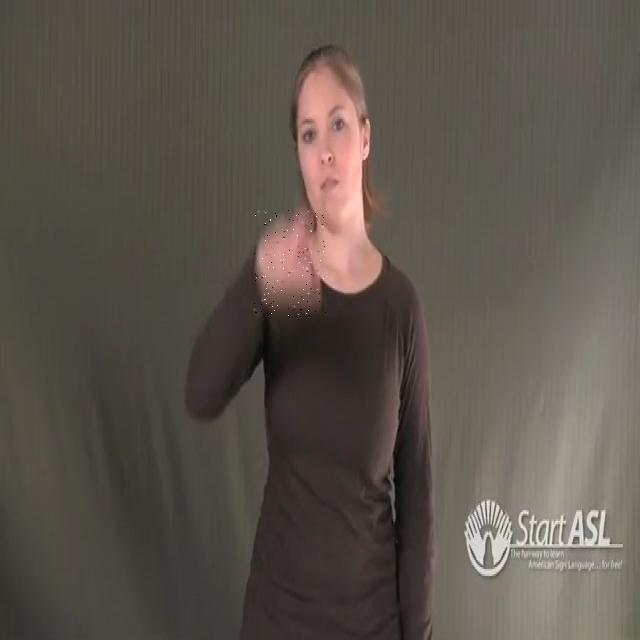drink: (254, 210, 326, 316)
